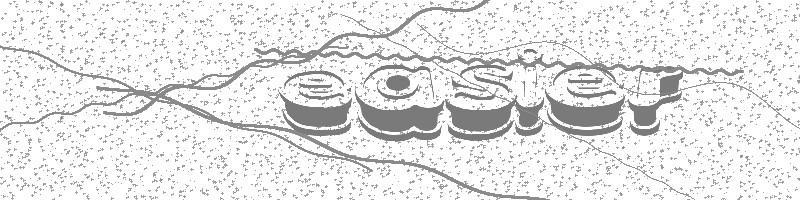a: (356, 63, 443, 141)
e: (546, 61, 628, 135), (277, 66, 354, 136)
i: (515, 44, 545, 137)
r: (624, 59, 687, 138)
s: (444, 61, 515, 140)
